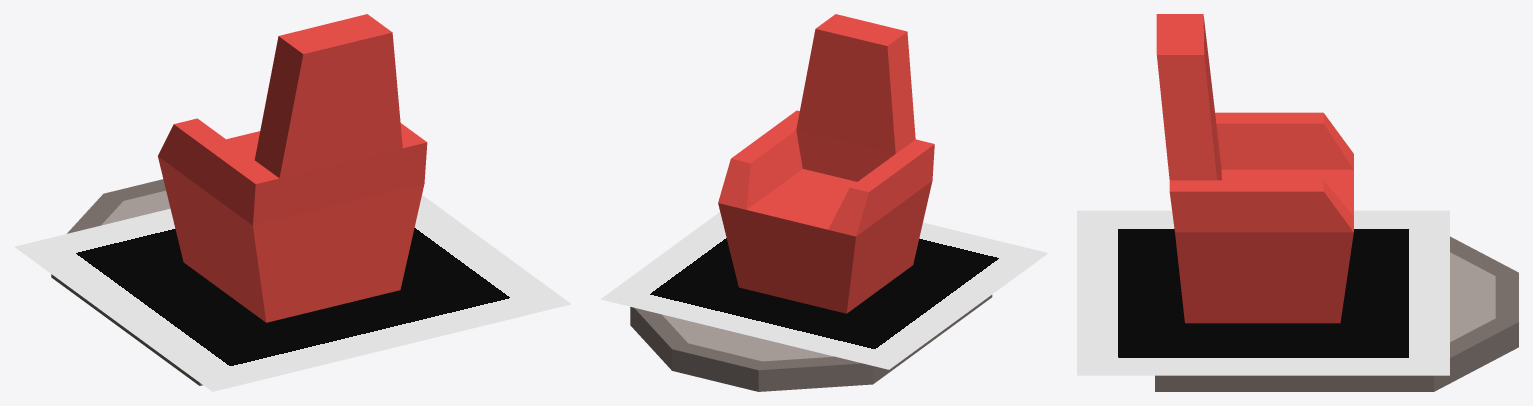
The model's file is CaptainChair.FBX.
The picture shows the model from 3 angles, left to right: view 1: azimuth 30°, elevation 25°; view 2: azimuth 150°, elevation 25°; view 3: azimuth 270°, elevation 25°; orthographic projection. The views are drawn at different scales.
Visible parts, largest first — view 1: CaptainChair, Plane03, Box01, Object01; view 2: CaptainChair, Plane03, Box01, Object01; view 3: Plane03, CaptainChair, Box01, Object01.
Boxes of the visible parts, <box> form: CaptainChair: <box>158,14,427,322</box>; Plane03: <box>14,195,571,391</box>; Box01: <box>51,179,202,385</box>; Object01: <box>101,190,170,225</box>; CaptainChair: <box>718,14,934,313</box>; Plane03: <box>600,212,1048,369</box>; Box01: <box>630,295,992,391</box>; Object01: <box>662,314,833,361</box>; Plane03: <box>1077,210,1449,375</box>; CaptainChair: <box>1156,14,1353,323</box>; Box01: <box>1155,236,1518,391</box>; Object01: <box>1450,252,1495,342</box>.
Bounding box in the file's own units: 8.5 × 9.63 × 6.91.
